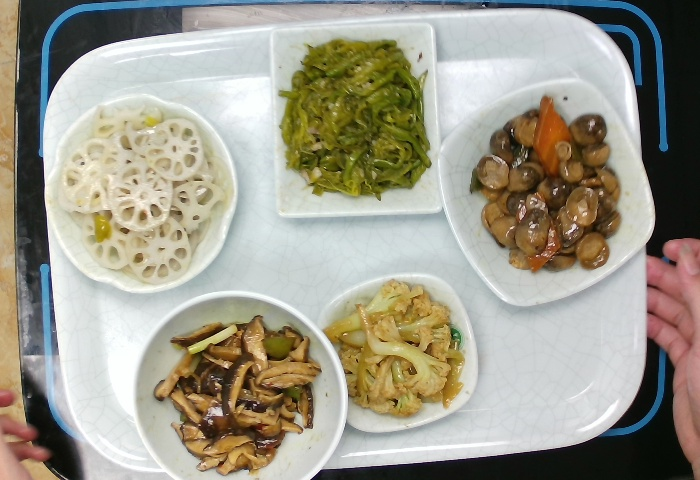JYsf-Ao_Yuan_Wan: (41, 87, 243, 298)
JYsf-Fan_Wan: (126, 285, 352, 480)
JYsf-Si_Fang_Die: (311, 268, 484, 440)
WCQzf-Da_Si_Fang_Die: (433, 73, 659, 311)
WCQzf-Ru_Ci_Si_Fang_Die: (264, 17, 450, 224)
